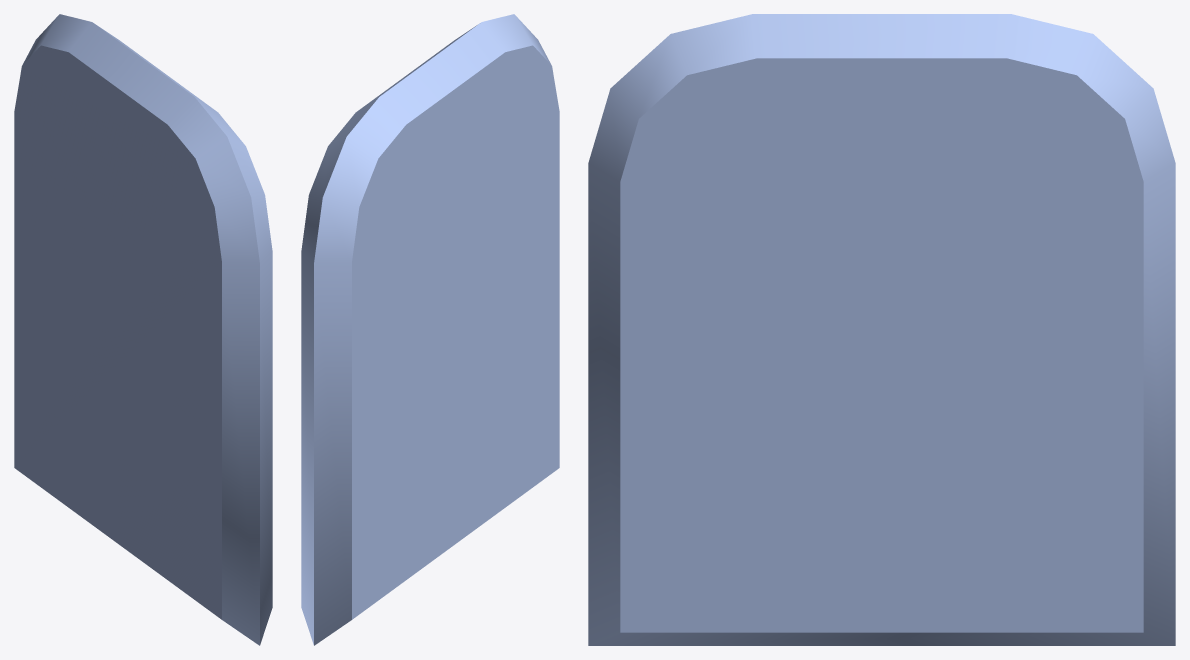
File: door.glb
The picture shows the model from 3 angles, left to right: view 1: azimuth 30°, elevation 25°; view 2: azimuth 150°, elevation 25°; view 3: azimuth 270°, elevation 25°; orthographic projection. The views are drawn at different scales.
Visible parts, largest first — view 1: door_mesh; view 2: door_mesh; view 3: door_mesh.
Part boxes in pixels (box(x1,y1,x2,y2)): door_mesh: box(14, 14, 272, 645); door_mesh: box(301, 14, 559, 645); door_mesh: box(588, 14, 1175, 645).
Bounding box in the file's own units: 0.25 × 2.38 × 2.
